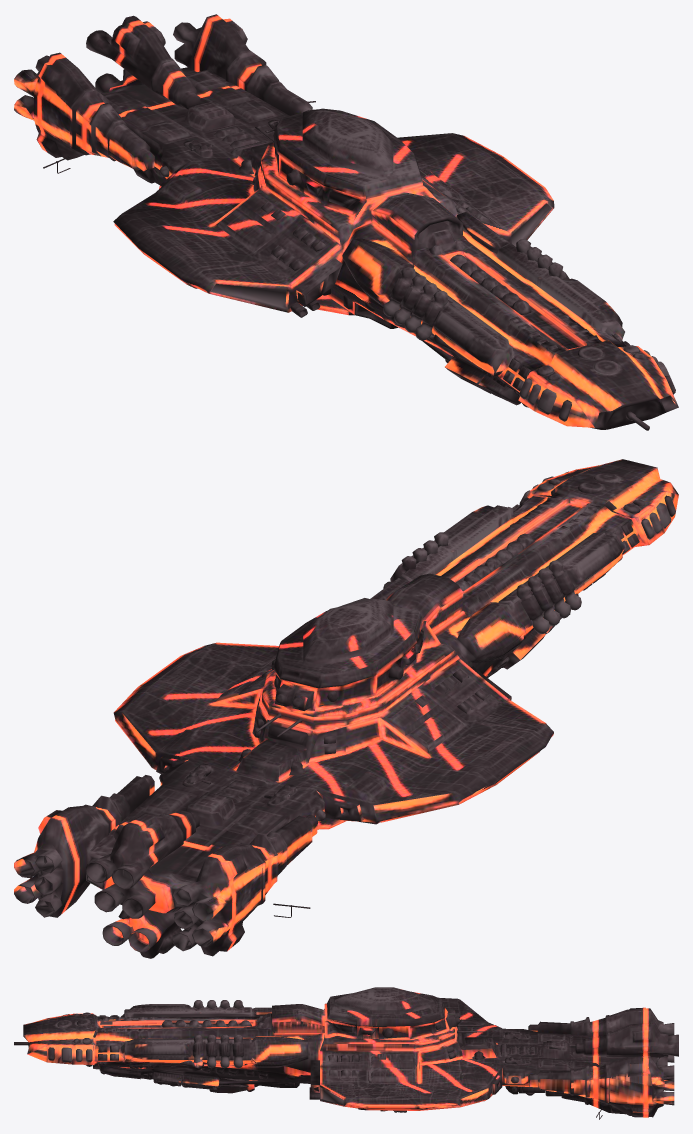
Rendered from ipc_sid.glb.
3 renders of one model, top to bottom at view 1: azimuth 30°, elevation 25°; view 2: azimuth 150°, elevation 25°; view 3: azimuth 270°, elevation 25°, orthographic. The views are drawn at different scales.
Visible parts, largest first — view 1: IPC_SID; view 2: IPC_SID; view 3: IPC_SID.
Part boxes in pixels (x1,y1,x2,y2): IPC_SID: (14, 14, 678, 430); IPC_SID: (14, 459, 678, 958); IPC_SID: (14, 987, 678, 1119).
Size of the model in its own units: 9.43 by 4.79 by 24.
1 material, 1 textured.
